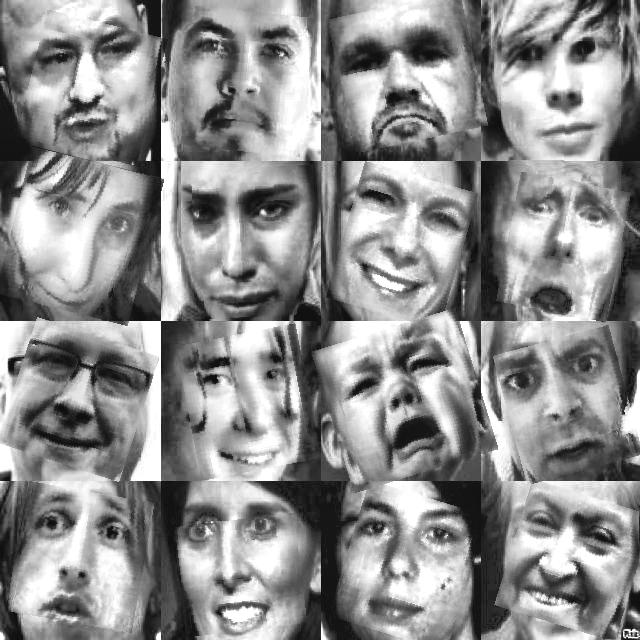fear: (500, 332, 636, 478), (11, 486, 149, 628), (502, 176, 626, 318), (176, 516, 304, 634)
happy: (4, 153, 156, 319), (5, 326, 150, 474), (334, 168, 470, 324), (502, 487, 640, 634), (182, 328, 316, 475)
neutral: (336, 487, 479, 640), (23, 15, 161, 160), (185, 9, 311, 155), (508, 13, 620, 165)
sad: (320, 318, 489, 484), (333, 0, 482, 146), (193, 165, 319, 318)
